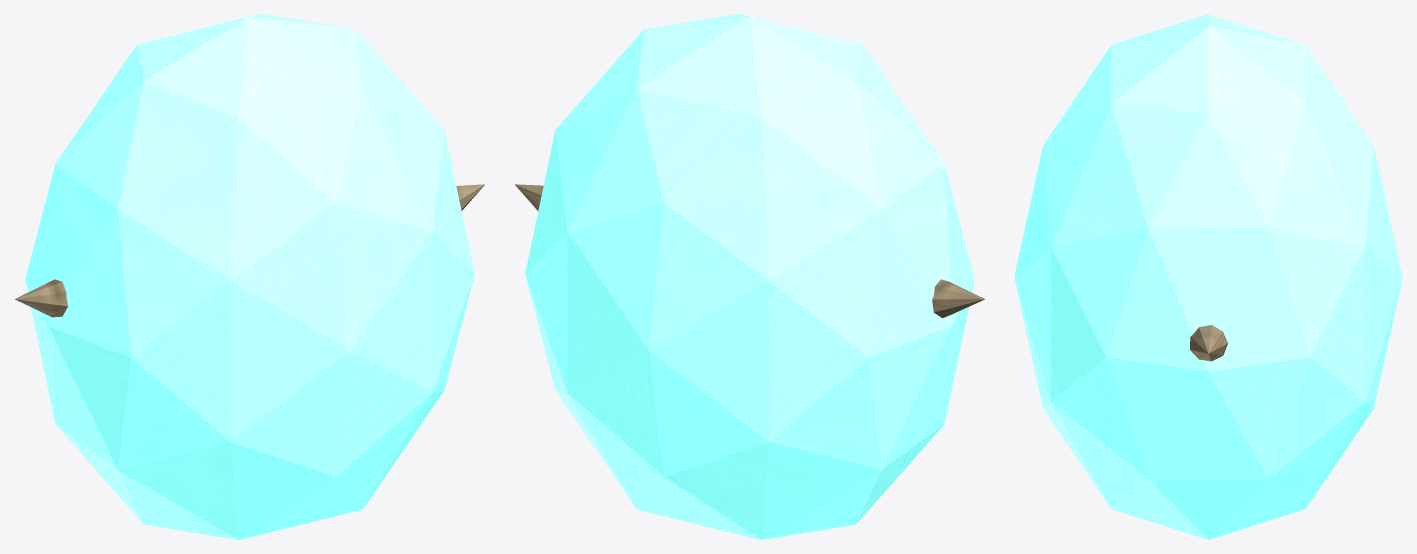
The model's file is mana.glb.
The picture shows the model from 3 angles, left to right: view 1: azimuth 30°, elevation 25°; view 2: azimuth 150°, elevation 25°; view 3: azimuth 270°, elevation 25°; orthographic projection. The views are drawn at different scales.
Visible parts, largest first — view 1: glowcyan, gold; view 2: glowcyan, gold; view 3: glowcyan, gold.
Boxes of the visible parts, x1=… form: glowcyan: x1=25, y1=14, x2=474, y2=539; gold: x1=15, y1=184, x2=484, y2=317; glowcyan: x1=525, y1=14, x2=974, y2=539; gold: x1=515, y1=184, x2=984, y2=318; glowcyan: x1=1014, y1=14, x2=1402, y2=539; gold: x1=1190, y1=325, x2=1227, y2=361.
Bounding box in the file's own units: 0.7 × 0.74 × 0.52.
Materials: 2 (2 with a texture image).
